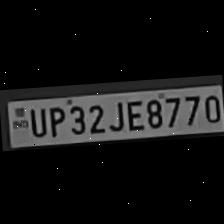0: (199, 92, 223, 122)
2: (84, 99, 106, 133)
3: (65, 100, 86, 135)
7: (178, 92, 200, 125), (162, 93, 180, 127)
8: (142, 94, 164, 128)
E: (122, 96, 144, 131)
J: (104, 97, 124, 132)
P: (44, 102, 65, 136)
U: (25, 104, 46, 138)
